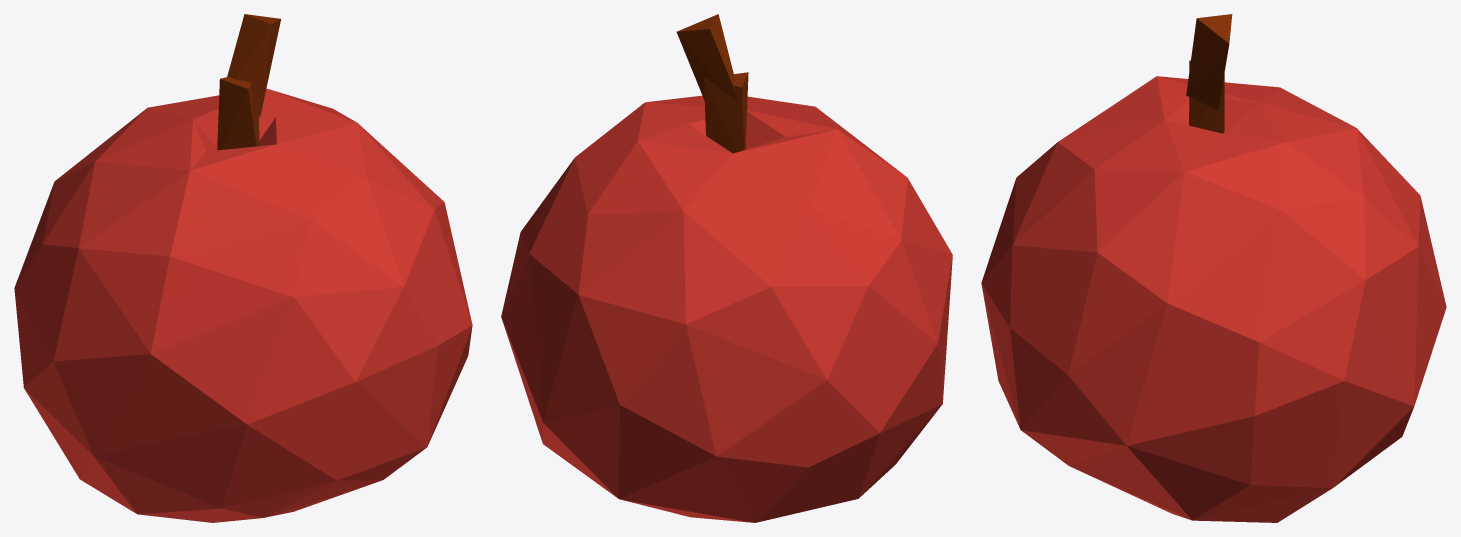
The model's file is appel.fbx.
3 views of the same model, side by side, from view 1: azimuth 30°, elevation 25°; view 2: azimuth 150°, elevation 25°; view 3: azimuth 270°, elevation 25° (orthographic).
Visible parts, largest first — view 1: Sphere, Cylinder.001, Cylinder; view 2: Sphere, Cylinder.001, Cylinder; view 3: Sphere, Cylinder.001, Cylinder.
Boxes of the visible parts, x1,y1,x2,y2 form: Sphere: [14, 88, 472, 522]; Cylinder.001: [219, 14, 280, 116]; Cylinder: [217, 76, 259, 150]; Sphere: [501, 95, 952, 522]; Cylinder.001: [676, 14, 743, 111]; Cylinder: [704, 72, 748, 153]; Sphere: [981, 76, 1446, 522]; Cylinder.001: [1186, 14, 1232, 110]; Cylinder: [1189, 60, 1224, 133].
Bounding box in the file's own units: 202 × 231 × 203.
